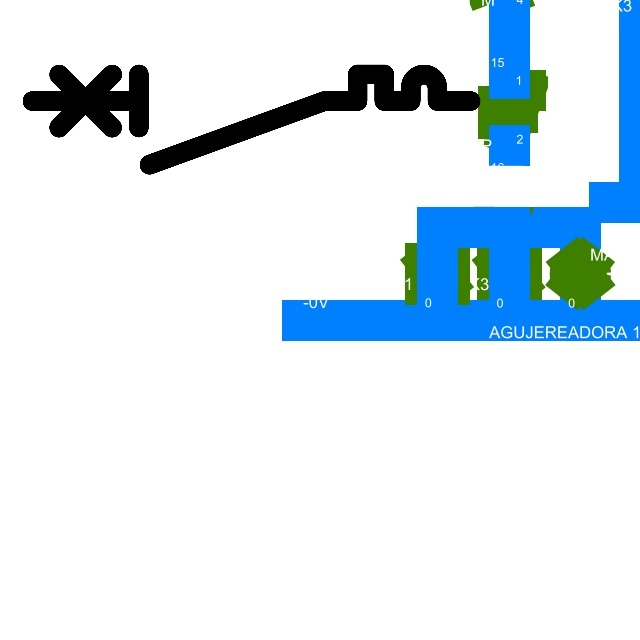interruptor_termomagnetico: (21, 63, 482, 175)
